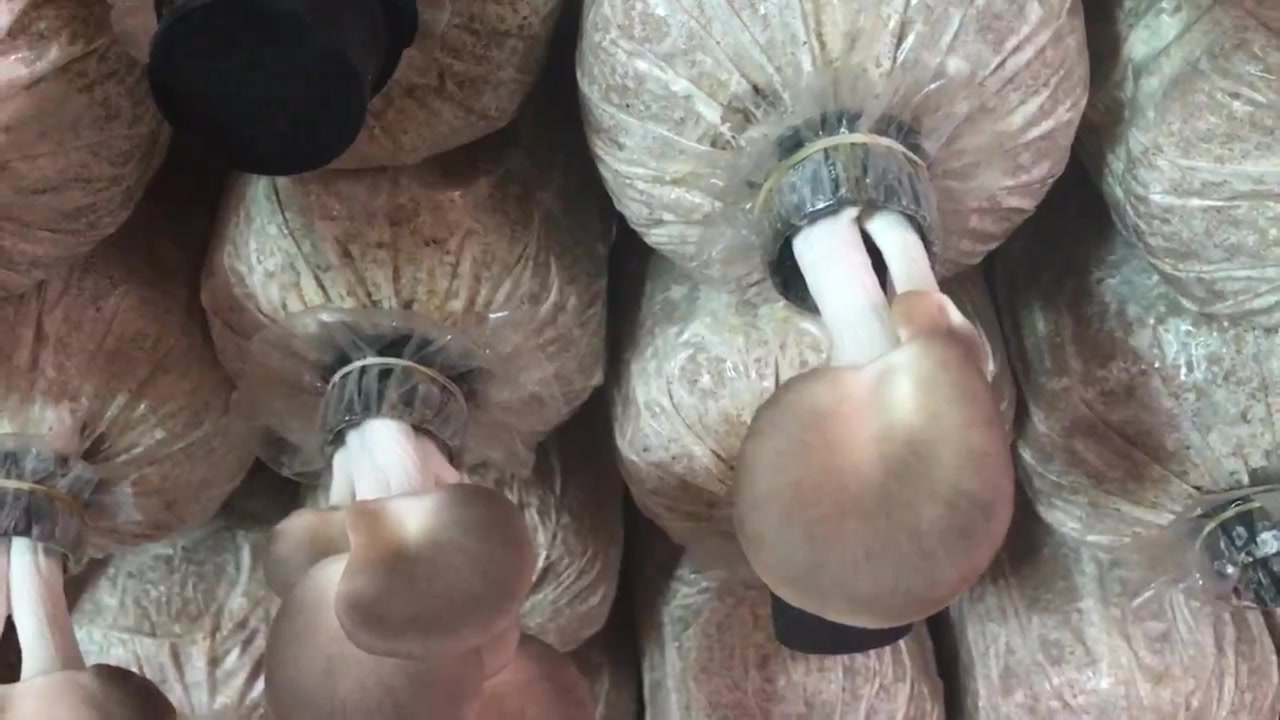nam: (736, 146, 1016, 627), (264, 360, 588, 720), (1, 465, 170, 717)
